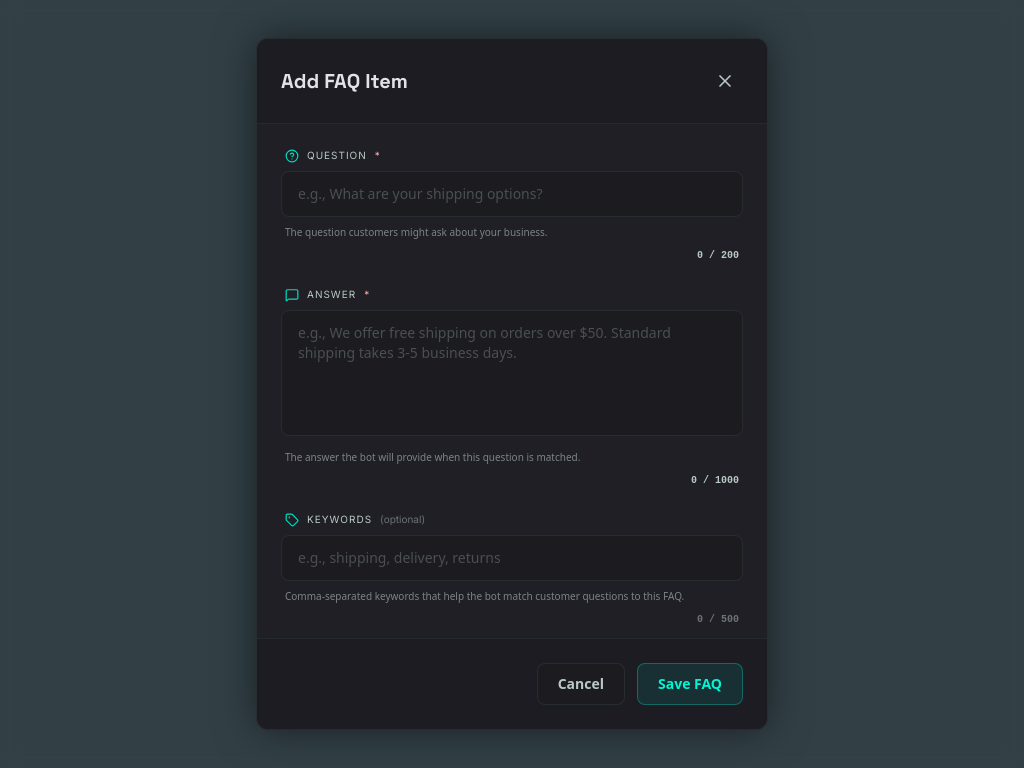
Test: FaqForm › Validation › should show error when answer is empty on submit
Type "Test question?" into the field labelled "Question *" at {"x": 512, "y": 194}, box [281,171,743,217]
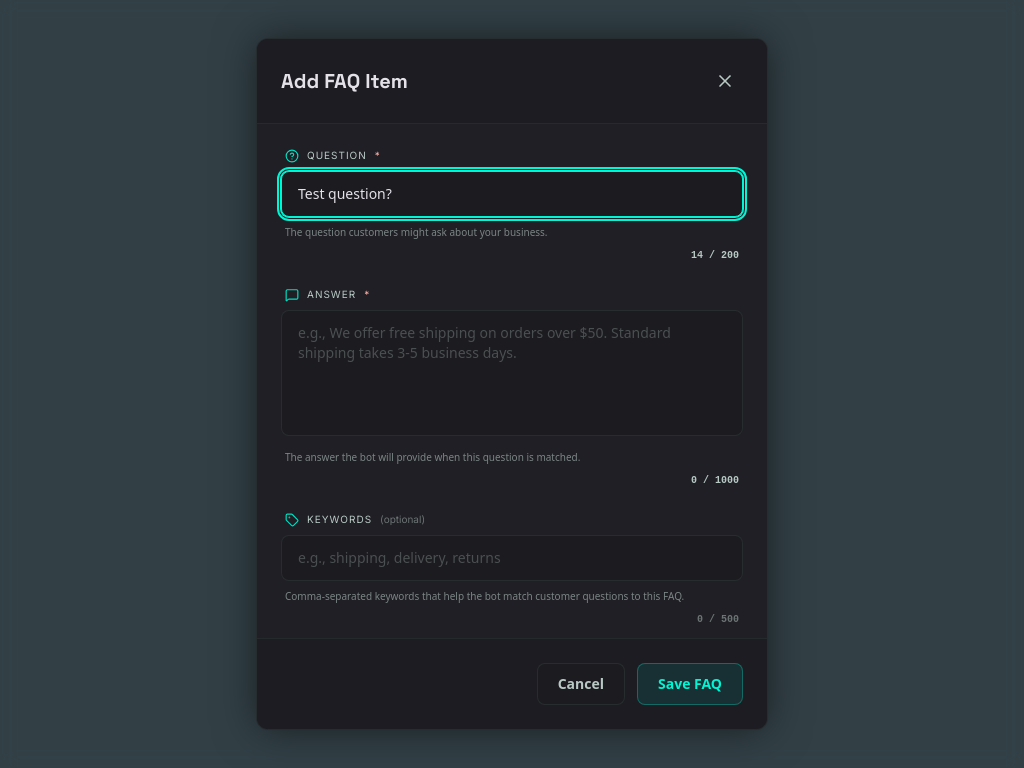
Click the button "Save FAQ" at {"x": 690, "y": 684}, box [637,663,743,705]
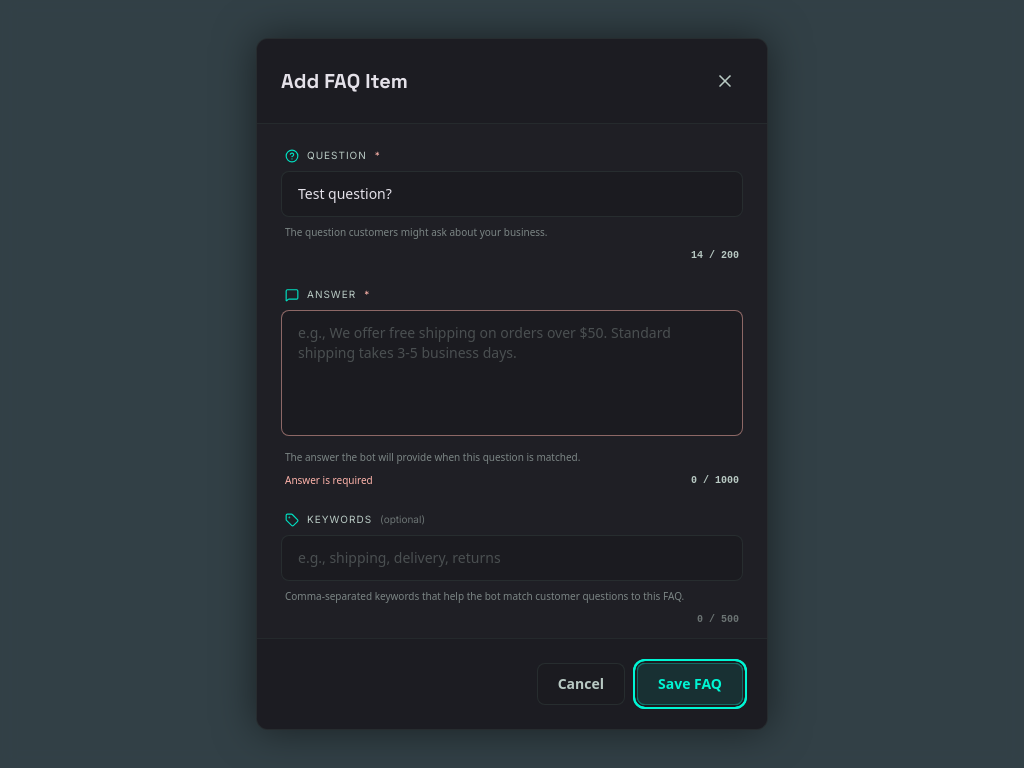
Expected: the text "Answer is required" is shown, [285,473,373,488]
